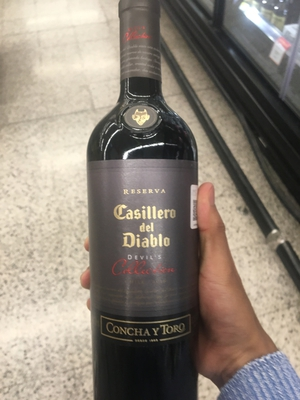casillero del diablo devils collection rojo: (89, 8, 212, 400)
